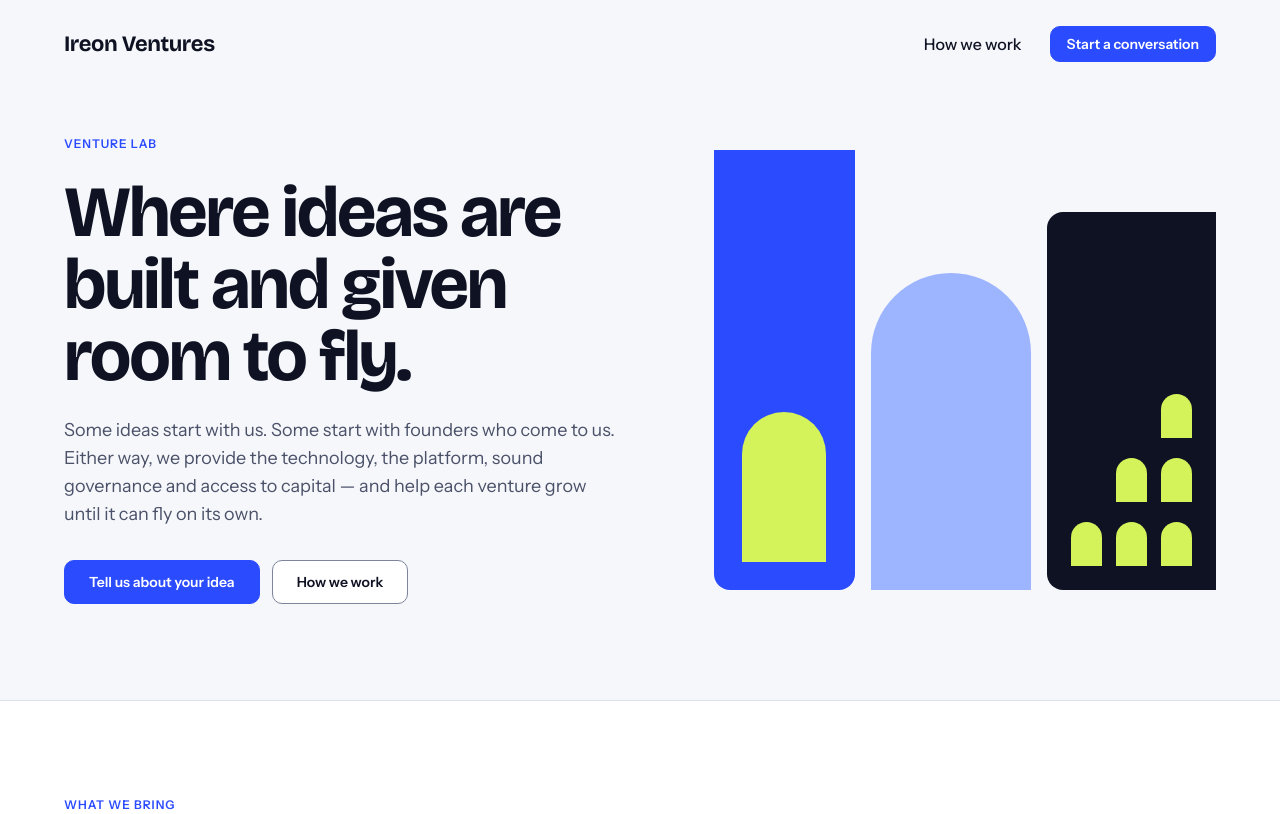
Test: routing › marks the current page in the main navigation
Click the 1st link "How we work".
click(973, 44)  # box [924,34,1022,54]
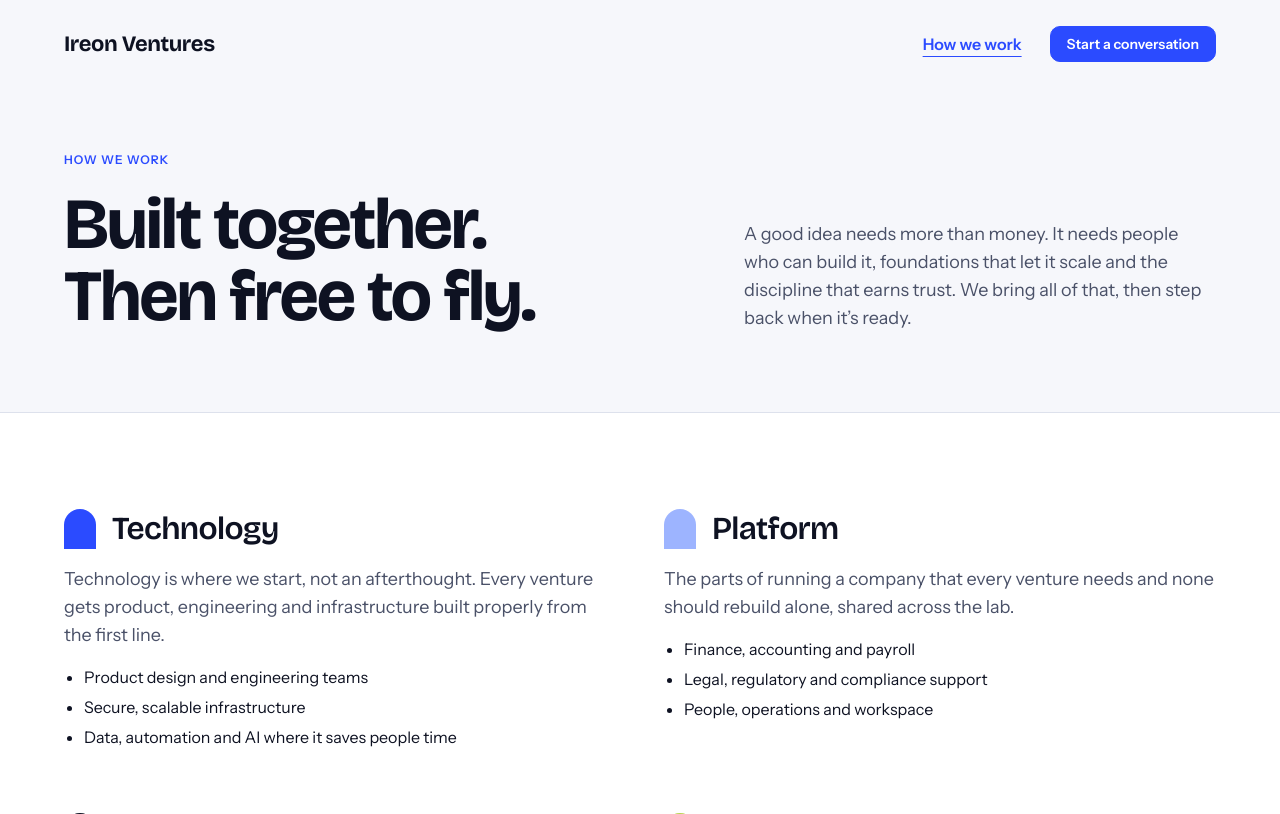
Now the heading "Built together. Then free to fly." is shown, box [64,181,534,339]
